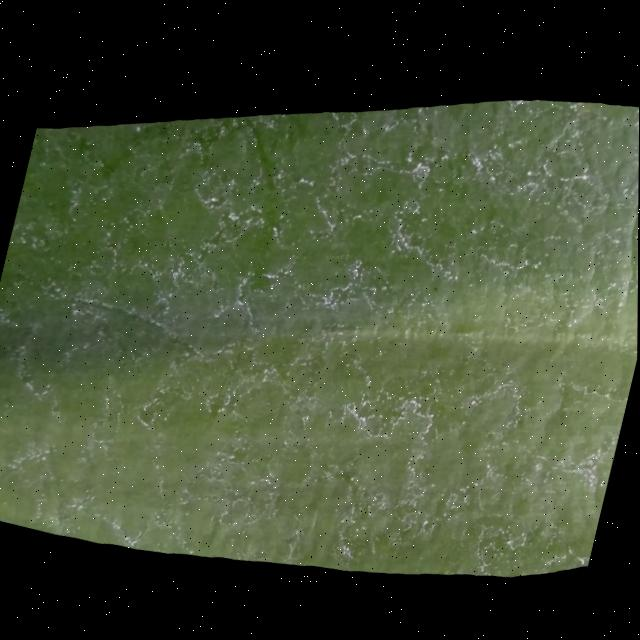mite: (250, 326, 308, 373), (411, 269, 453, 311), (510, 493, 534, 519), (426, 278, 446, 298), (131, 122, 143, 134), (430, 283, 442, 294)
